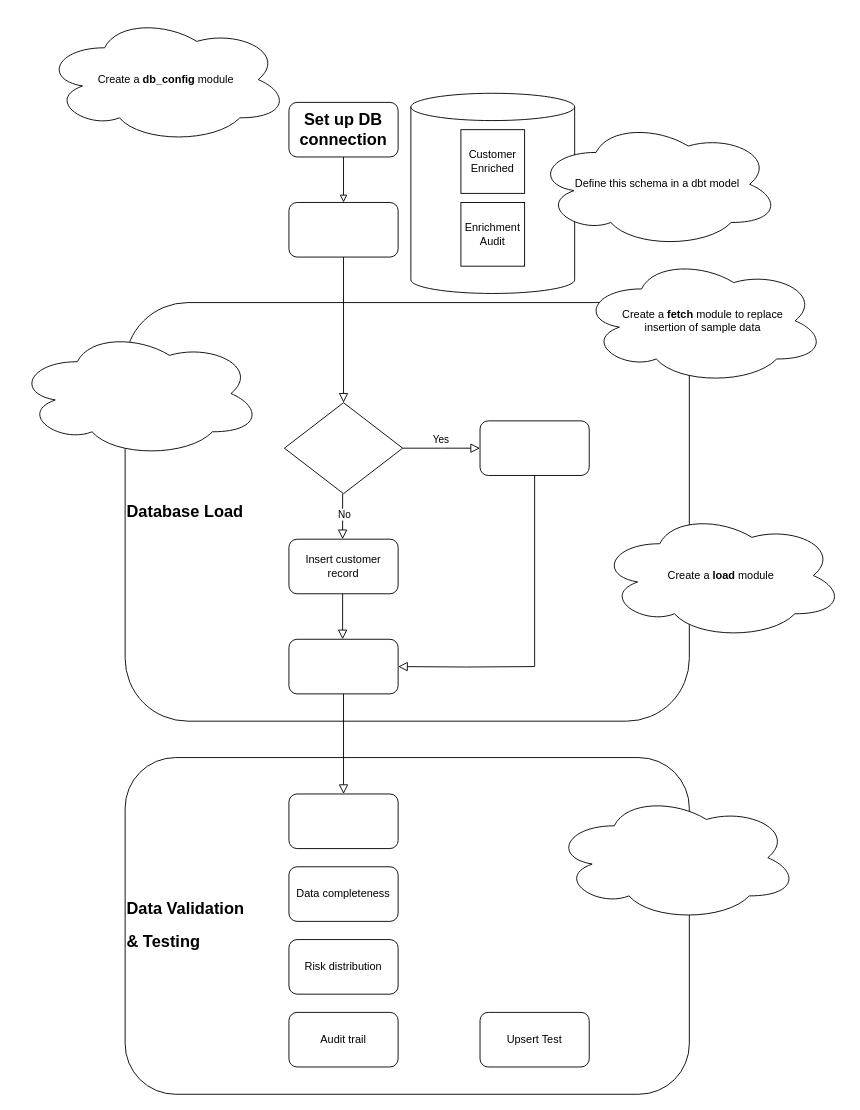
This 860x1110 diagram has some shape labels left out. Here are the shapes that lost their labels. From the top down, the centre of each, then its label:
At (343,229): "Create tables".
At (138,393): "Better way than SELECT count(*) WHERE customer_id = ?".
At (343,448): "Does customer exist?".
At (534,447): "Update record".
At (343,666): "Insert audit record".
At (343,821): "Record count".
At (675,857): "Shift this into pytest and/or dbt tests".
